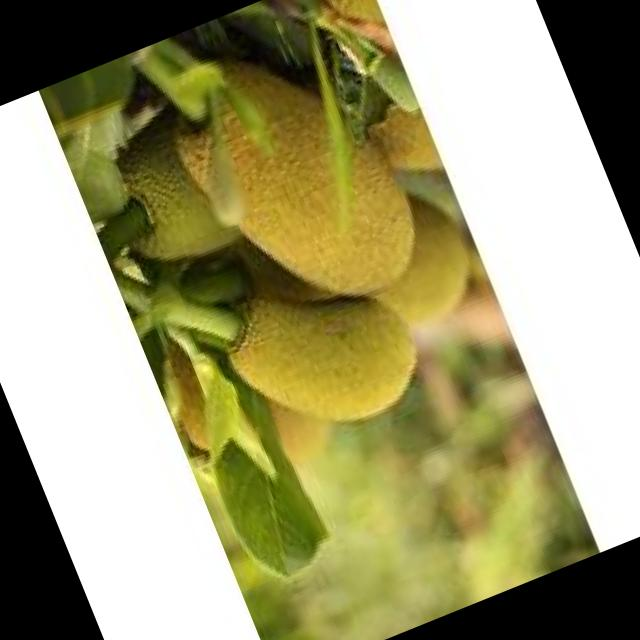Fruit: (141, 0, 478, 416), (186, 230, 456, 485)
